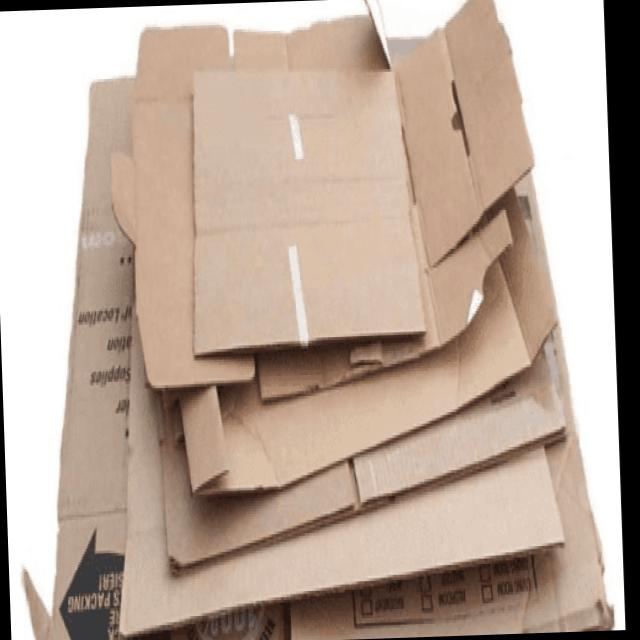Kardus: (2, 0, 612, 640)
